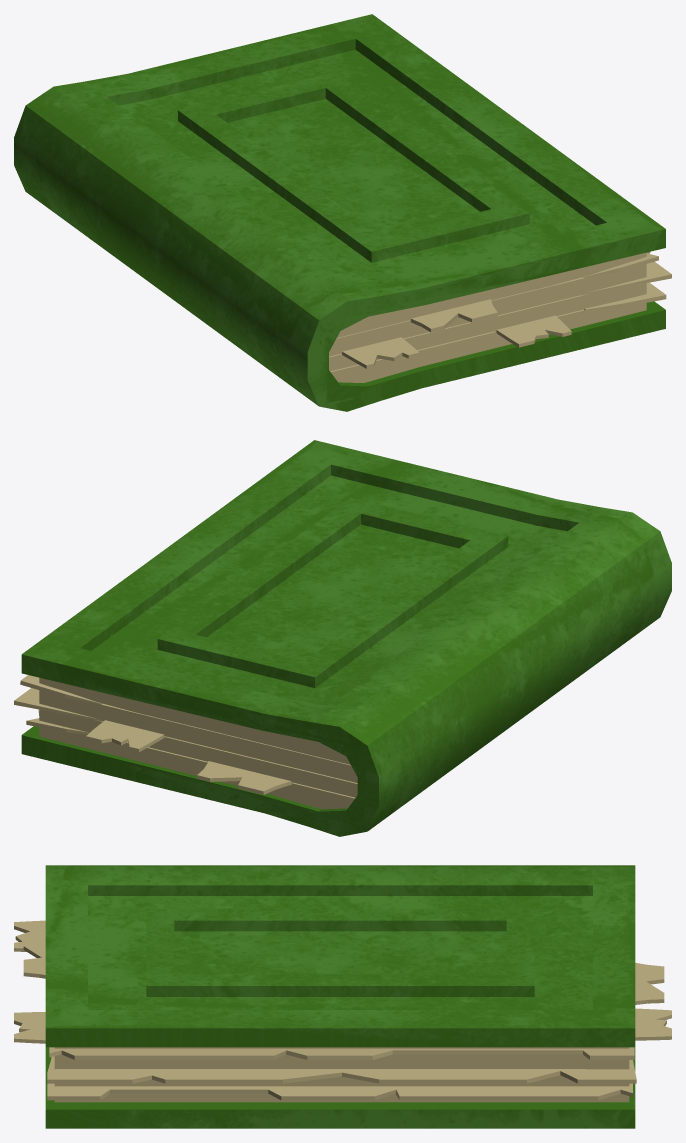
The model's file is book_green_2.fbx.
The picture shows the model from 3 angles, top to bottom: view 1: azimuth 30°, elevation 25°; view 2: azimuth 150°, elevation 25°; view 3: azimuth 270°, elevation 25°; orthographic projection.
Parts seen in each view (by area): view 1: Cube.026; view 2: Cube.026; view 3: Cube.026.
Part boxes in pixels (x1,y1,x2,y2): Cube.026: (14,14,671,411); Cube.026: (14,440,671,836); Cube.026: (14,865,671,1128).
Size of the model in its own units: 220 by 63.43 by 341.
